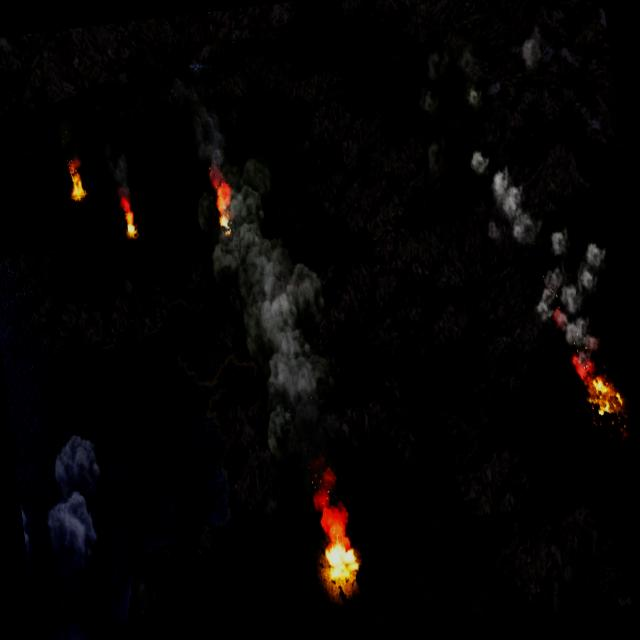fire: (318, 526, 363, 588), (209, 170, 238, 232), (586, 368, 622, 416), (67, 158, 88, 202), (121, 200, 139, 240)
smoke: (197, 147, 394, 574), (468, 130, 620, 382), (408, 39, 497, 185), (33, 426, 115, 568), (175, 66, 228, 172), (102, 141, 134, 209), (517, 20, 551, 78), (56, 110, 82, 160), (20, 502, 33, 552)
